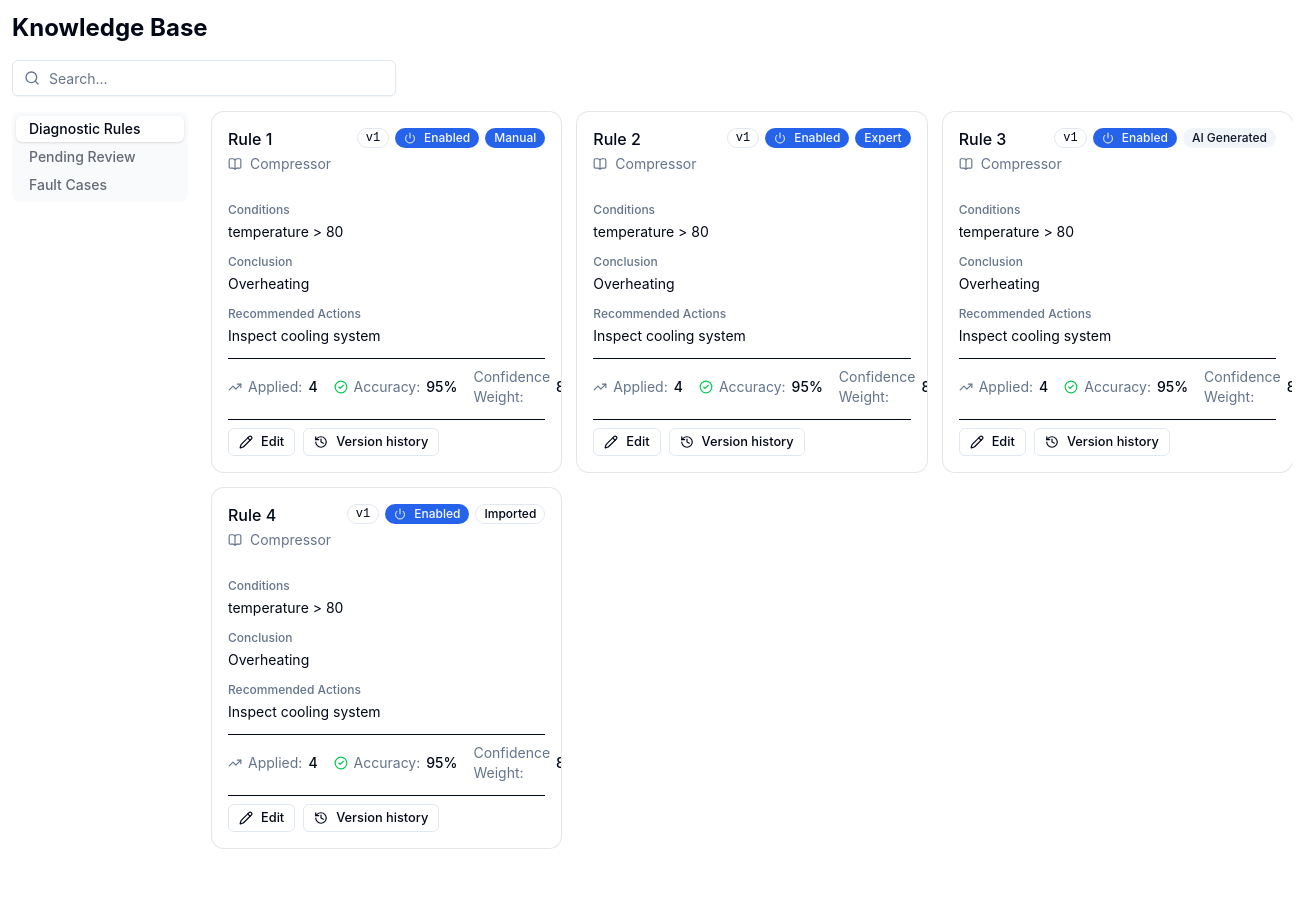
it: 知识库页面英文来源标签 › 故障案例 Tab 应展示指标快照、标签和维修追溯信息
Click the tab "Fault Cases". click: [100, 185]
box: x1=16 y1=172 x2=184 y2=198
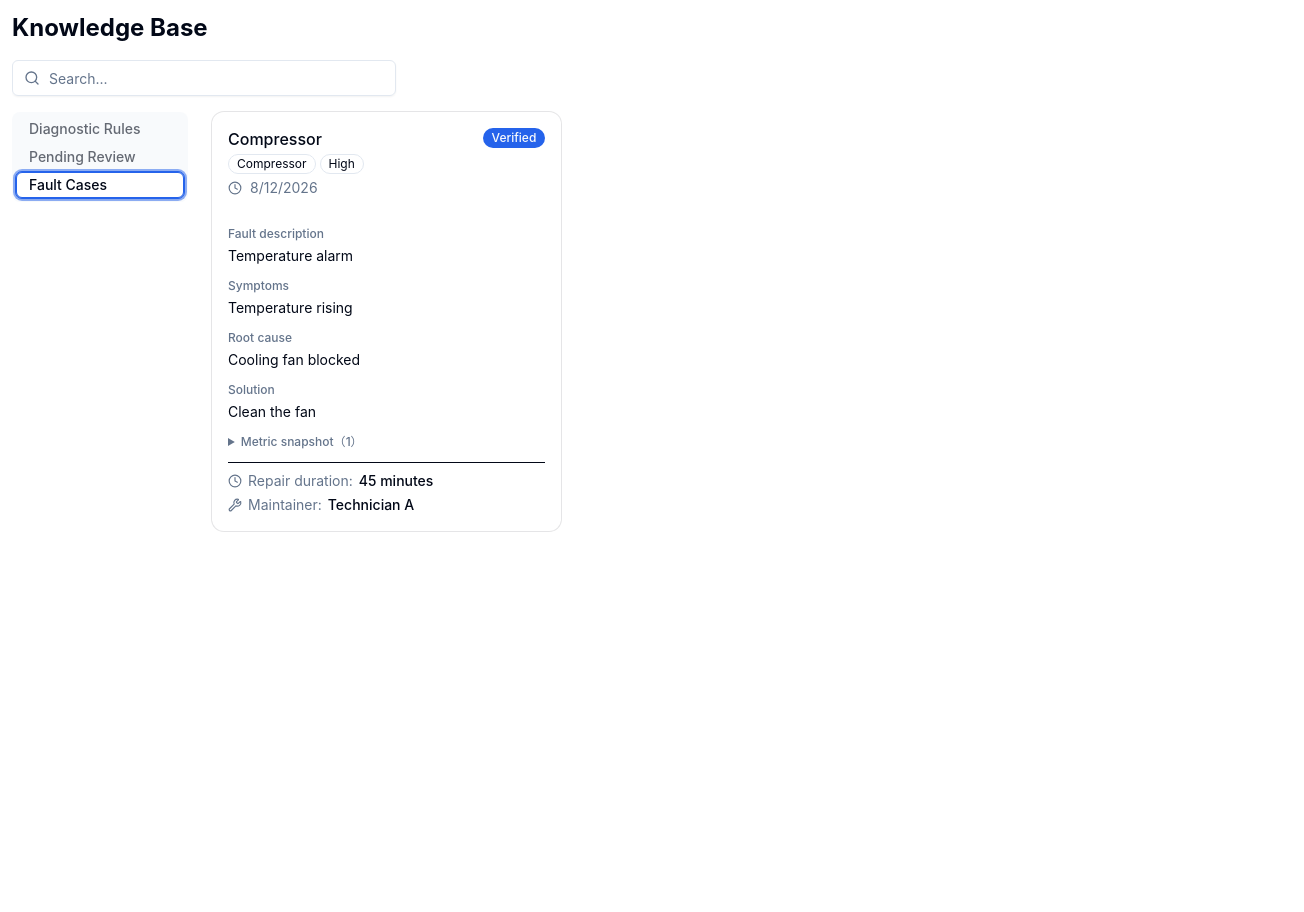
Now the text "Temperature alarm" is shown, box x1=228 y1=247 x2=353 y2=264
Now the icon "High" is shown, box x1=320 y1=154 x2=364 y2=174
Now the text "45 minutes" is shown, box x1=359 y1=471 x2=433 y2=491
